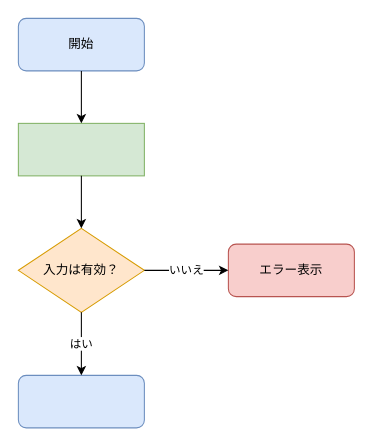
Image size: 373x446. Some labels were removed from this diagram. The shapes that lost their labels are listed below. From the top down, each one's centre as x and y in pixels, then its label:
At (80,149): "ユーザー入力".
At (80,401): "保存".
